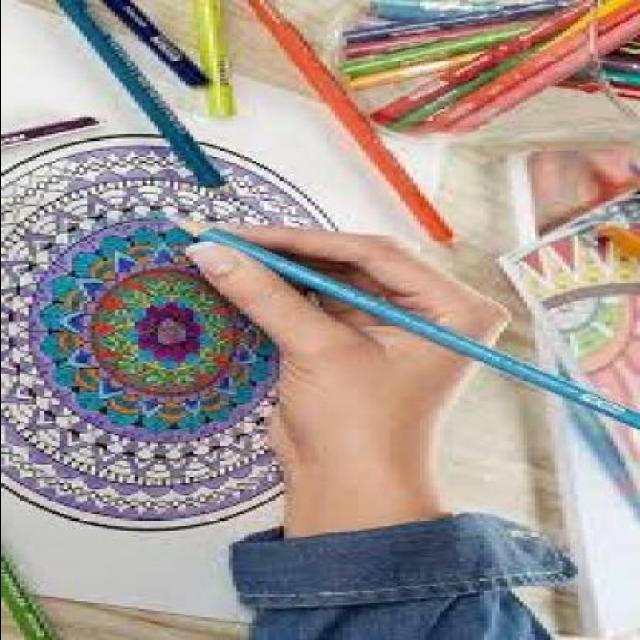Pencil: (142, 204, 228, 242)
